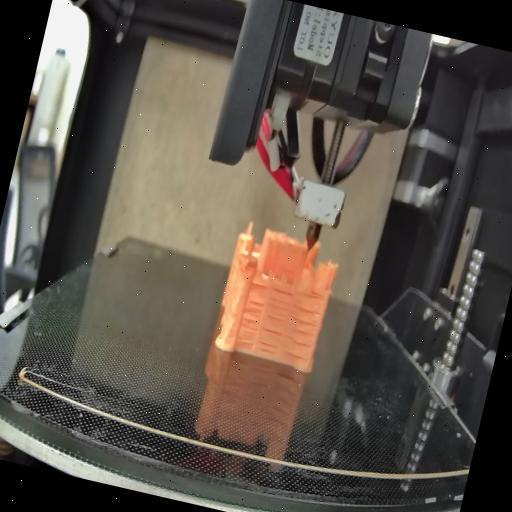cracks: (282, 304, 322, 362), (234, 298, 264, 352), (263, 284, 294, 325), (255, 328, 284, 356), (250, 281, 268, 289)
